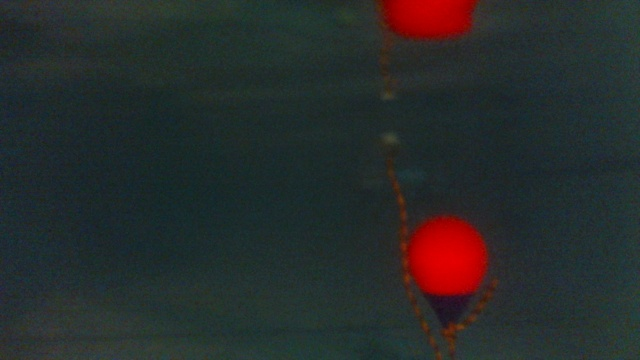buoy_red: (407, 214, 490, 318)
